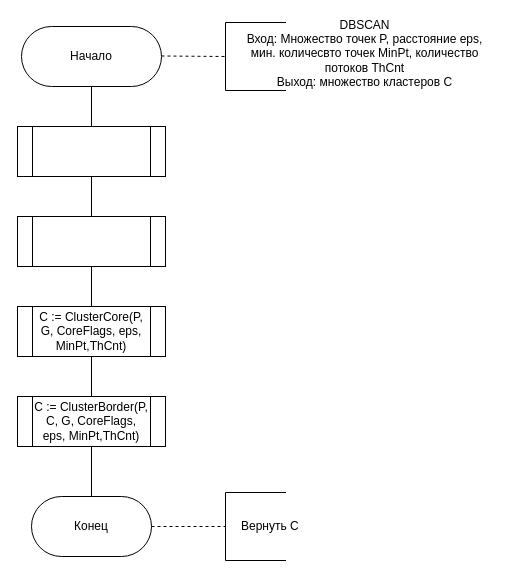
Image size: 507x578. Some labels were removed from this diagram. Each missing label, with the centre of its shape:
"CoreFlags := MarkCore(P, G, eps, MinPt,ThCnt)" goes at [91,241].
"G := Make_cells(P, eps, MinPt,ThCnt)" goes at [91,151].
